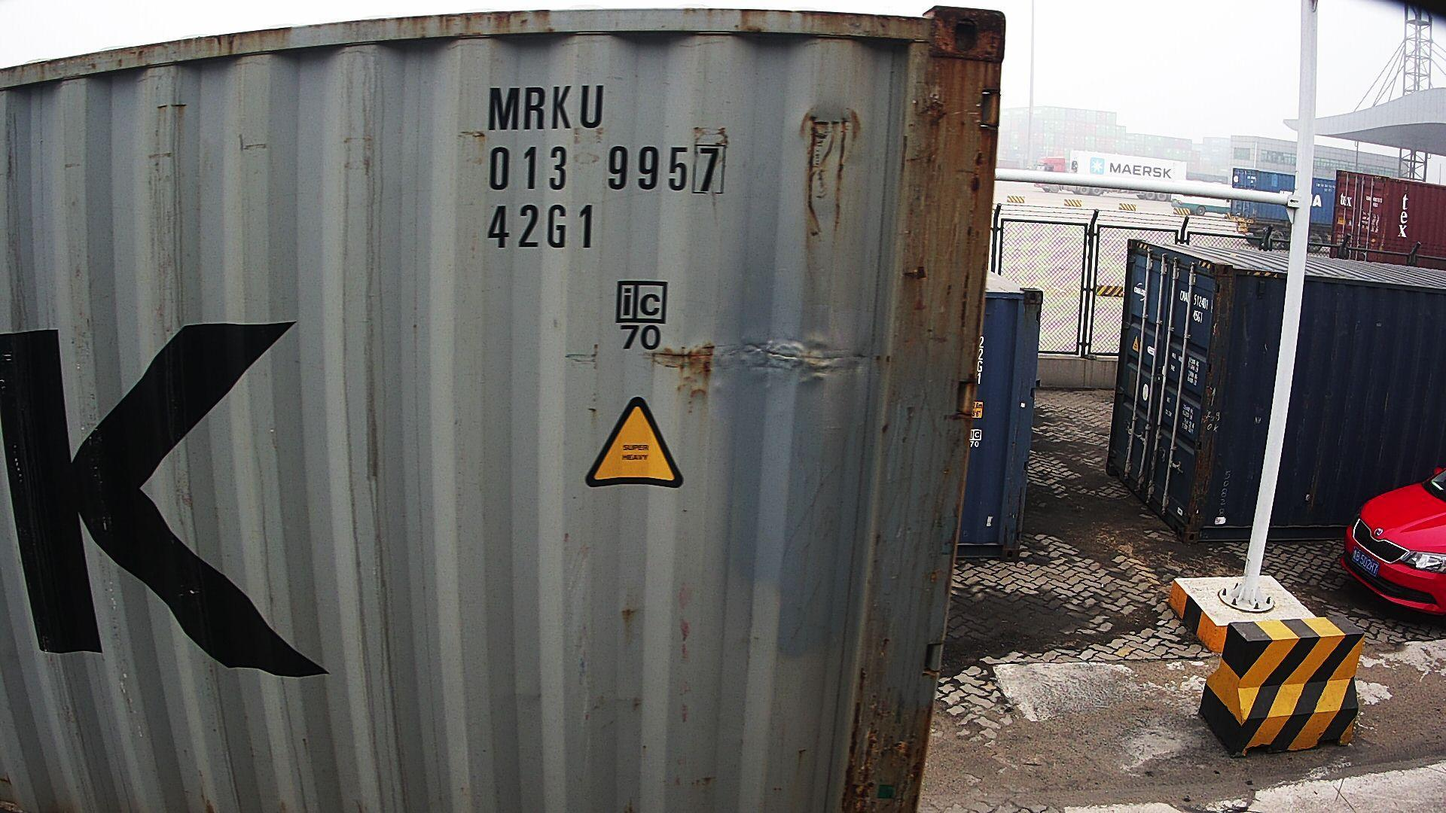container-numbers: (481, 139, 729, 199), (483, 81, 608, 135), (486, 202, 602, 254)
